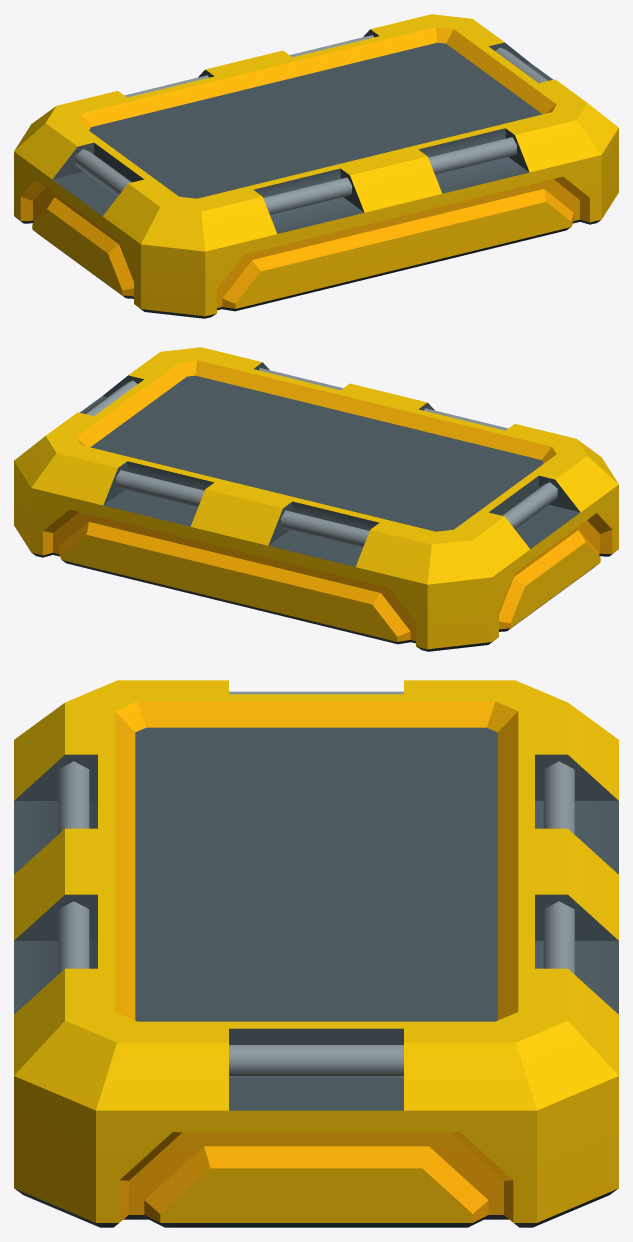
The model's file is Crate_013_cap_001.fbx.
The picture shows the model from 3 angles, top to bottom: view 1: azimuth 30°, elevation 25°; view 2: azimuth 150°, elevation 25°; view 3: azimuth 270°, elevation 25°; orthographic projection. The views are drawn at different scales.
Parts seen in each view (by area): view 1: Crate_013_cap_001; view 2: Crate_013_cap_001; view 3: Crate_013_cap_001.
Boxes of the visible parts, x1,y1,x2,y2 form: Crate_013_cap_001: [14, 14, 618, 318]; Crate_013_cap_001: [14, 347, 618, 651]; Crate_013_cap_001: [14, 680, 618, 1227].
Size of the model in its own units: 102 by 64.05 by 19.54.
